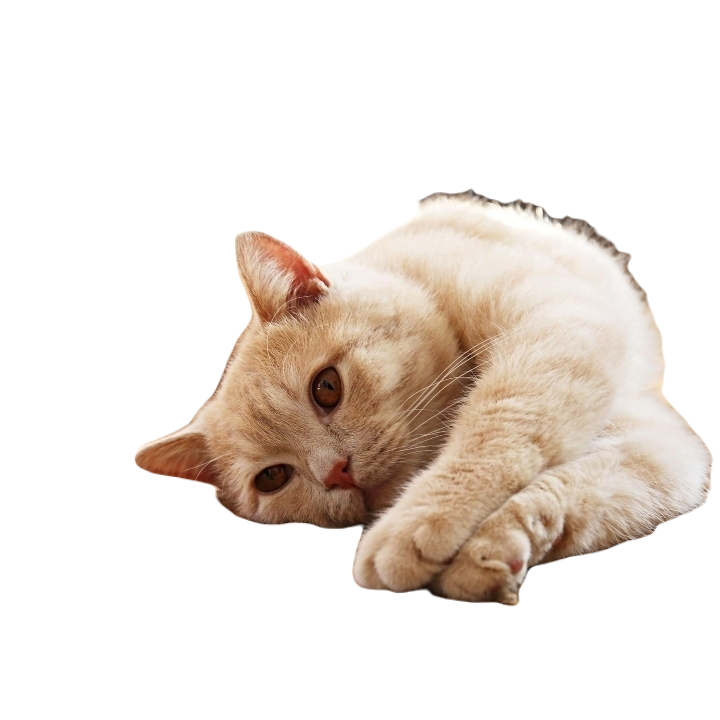Cat: (129, 185, 719, 610)
